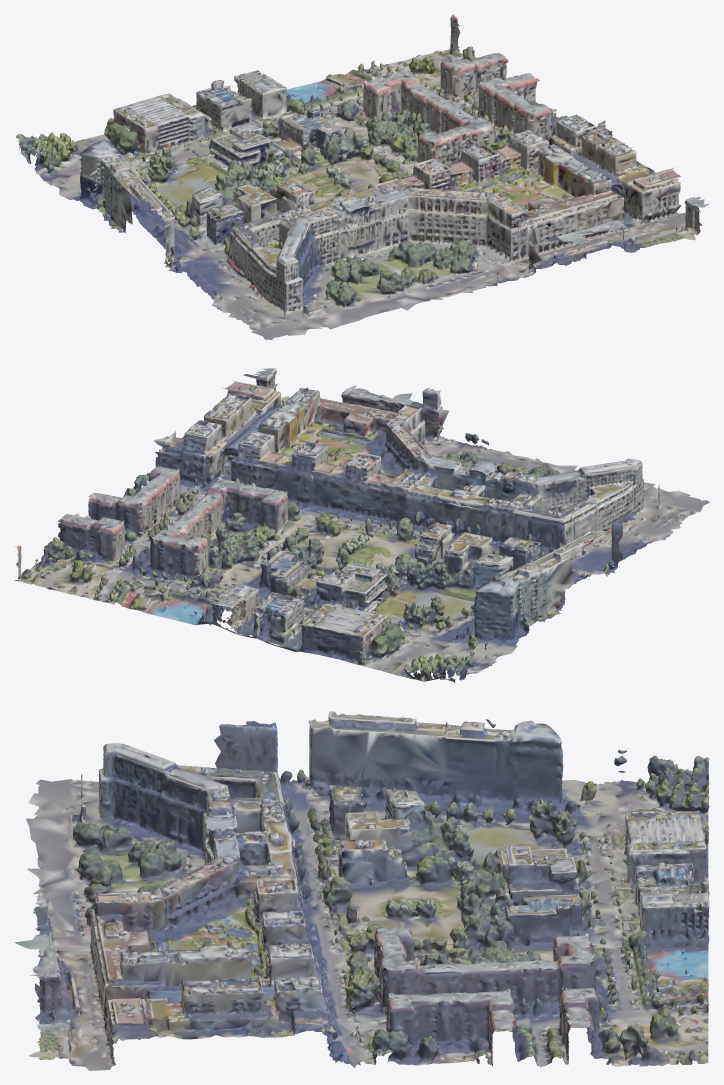
Rendered from surface-detail-3898_58189.glb.
3 renders of one model, top to bottom at view 1: azimuth 30°, elevation 25°; view 2: azimuth 150°, elevation 25°; view 3: azimuth 270°, elevation 25°, orthographic. The views are drawn at different scales.
Visible parts, largest first — view 1: world; view 2: world; view 3: world.
Part boxes in pixels (x1=…): world: x1=16, y1=14, x2=709, y2=339; world: x1=14, y1=368, x2=709, y2=682; world: x1=14, y1=711, x2=709, y2=1070.
Bounding box in the file's own units: 381 × 45.07 × 375.
